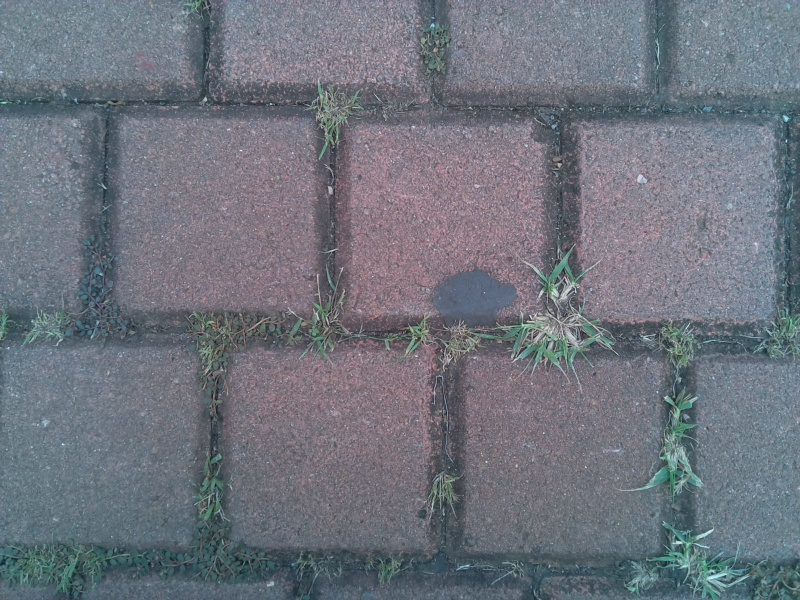Weed: (122, 528, 286, 585), (74, 214, 138, 345), (503, 306, 615, 372), (182, 306, 282, 372), (658, 525, 743, 600), (2, 535, 108, 594), (291, 272, 353, 357), (654, 385, 703, 491), (522, 252, 599, 309), (309, 78, 364, 148), (189, 447, 234, 526), (432, 313, 488, 373), (654, 317, 704, 374), (756, 308, 800, 368), (414, 19, 456, 75), (26, 306, 70, 351), (424, 468, 462, 518), (361, 547, 407, 586), (398, 313, 432, 359)
